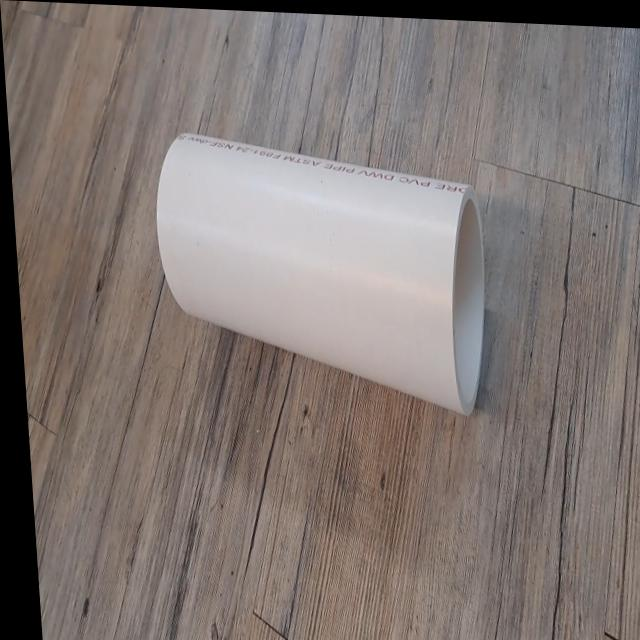CORAL: (145, 122, 501, 431)
